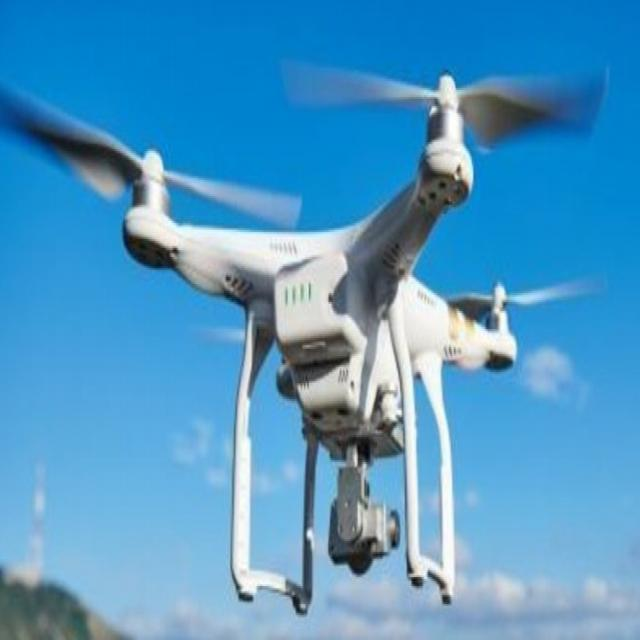drone: (0, 24, 638, 607)
